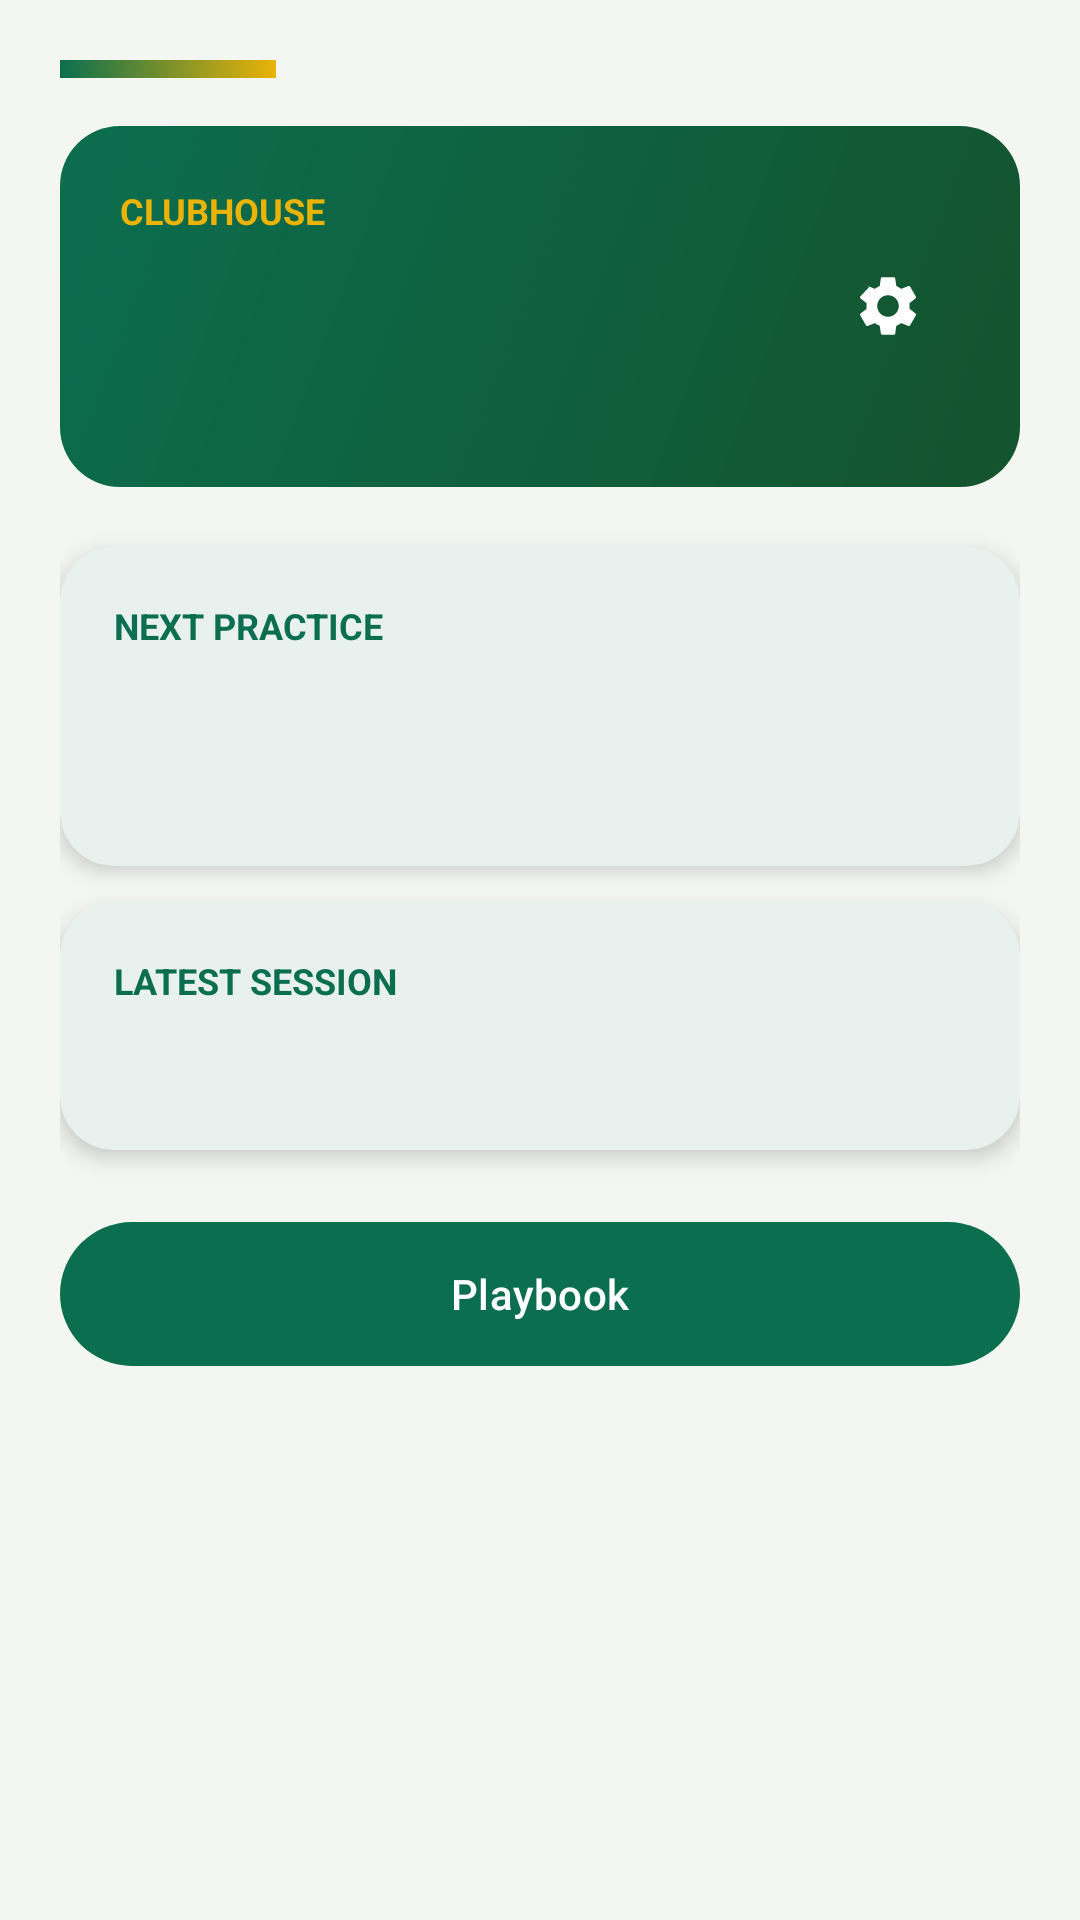

Icon click points for this 1080px x 1920px phone screenshot, format [x,y]:
Settings: [888,306]
